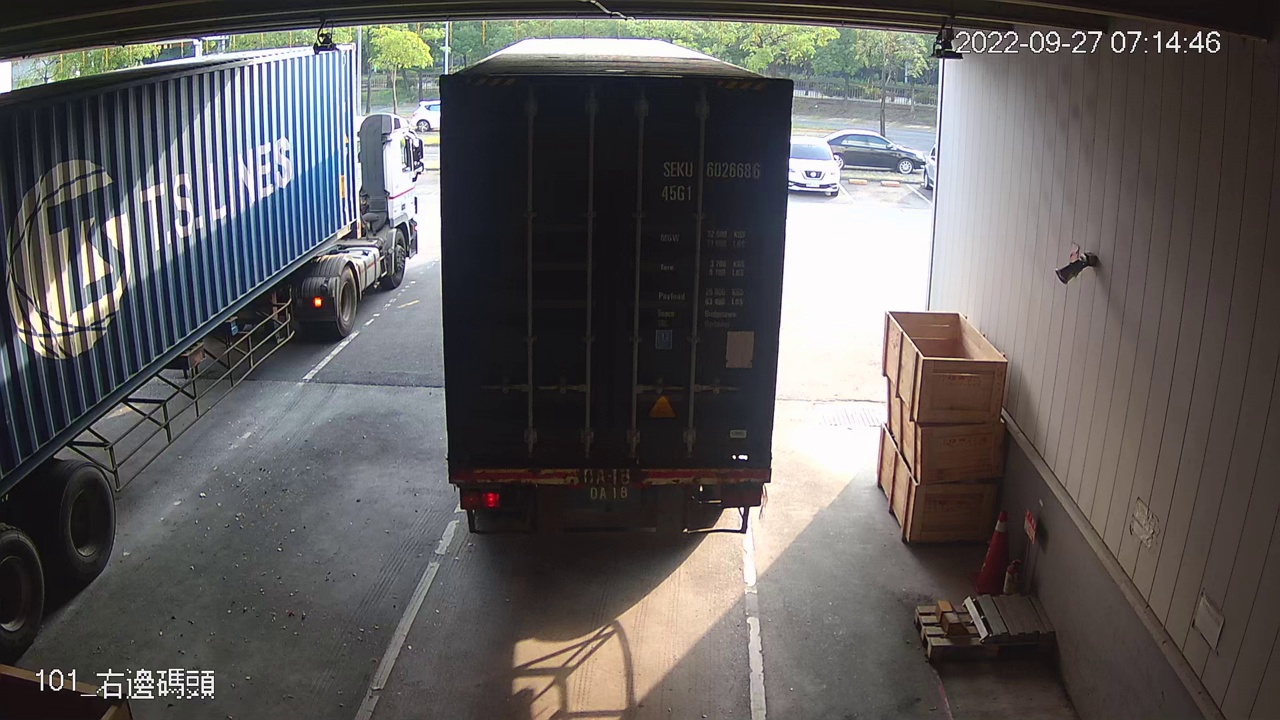container: (655, 153, 767, 210)
